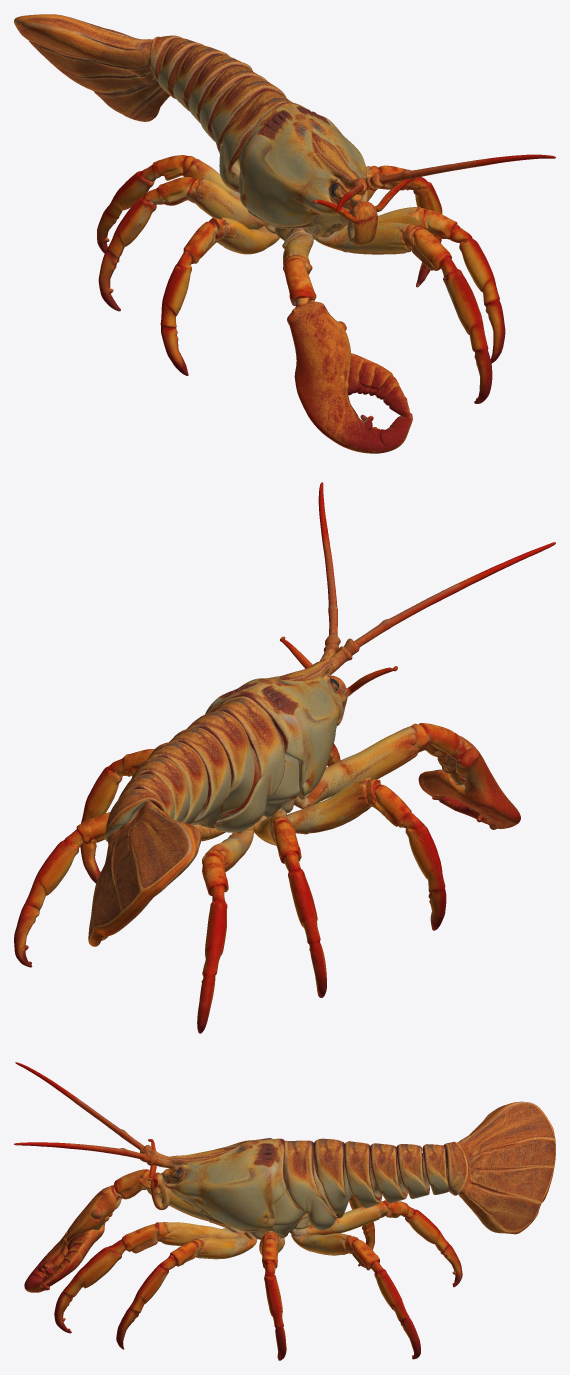
Rendered from bermuda-spiny-lobster.glb.
3 views of the same model, one above another, from view 1: azimuth 30°, elevation 25°; view 2: azimuth 150°, elevation 25°; view 3: azimuth 270°, elevation 25° (orthographic). The views are drawn at different scales.
Bounding box in the file's own units: 0.9832 × 0.8112 × 1.9.
1 material, 1 textured.
